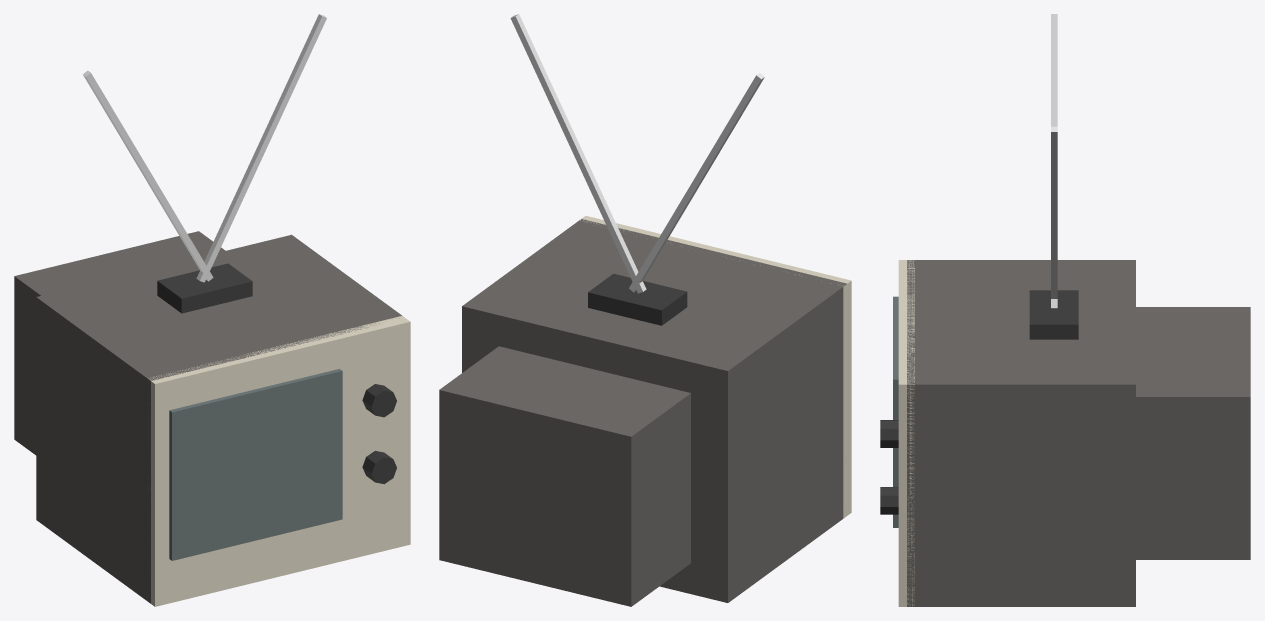
Rendered from tv_small.glb.
The picture shows the model from 3 angles, left to right: view 1: azimuth 30°, elevation 25°; view 2: azimuth 150°, elevation 25°; view 3: azimuth 270°, elevation 25°; orthographic projection. The views are drawn at different scales.
Visible parts, largest first — view 1: tv_small; view 2: tv_small; view 3: tv_small.
Boxes of the visible parts, box(x1,y1,x2,y2) form: tv_small: box(14, 14, 410, 606); tv_small: box(439, 14, 851, 606); tv_small: box(880, 14, 1250, 606).
Bounding box in the file's own units: 0.36 × 0.6399 × 0.4525.
